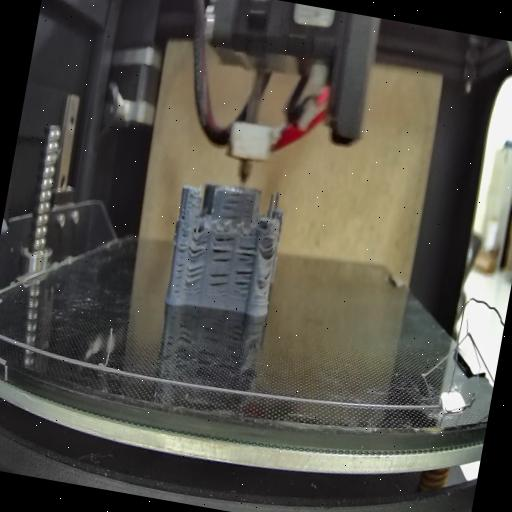cracks: (170, 232, 191, 295), (208, 232, 234, 266), (217, 189, 245, 220), (230, 264, 254, 296), (204, 267, 230, 295), (186, 238, 208, 262), (184, 262, 204, 286), (235, 242, 258, 262), (258, 237, 277, 259), (261, 266, 272, 282), (178, 208, 188, 222)
